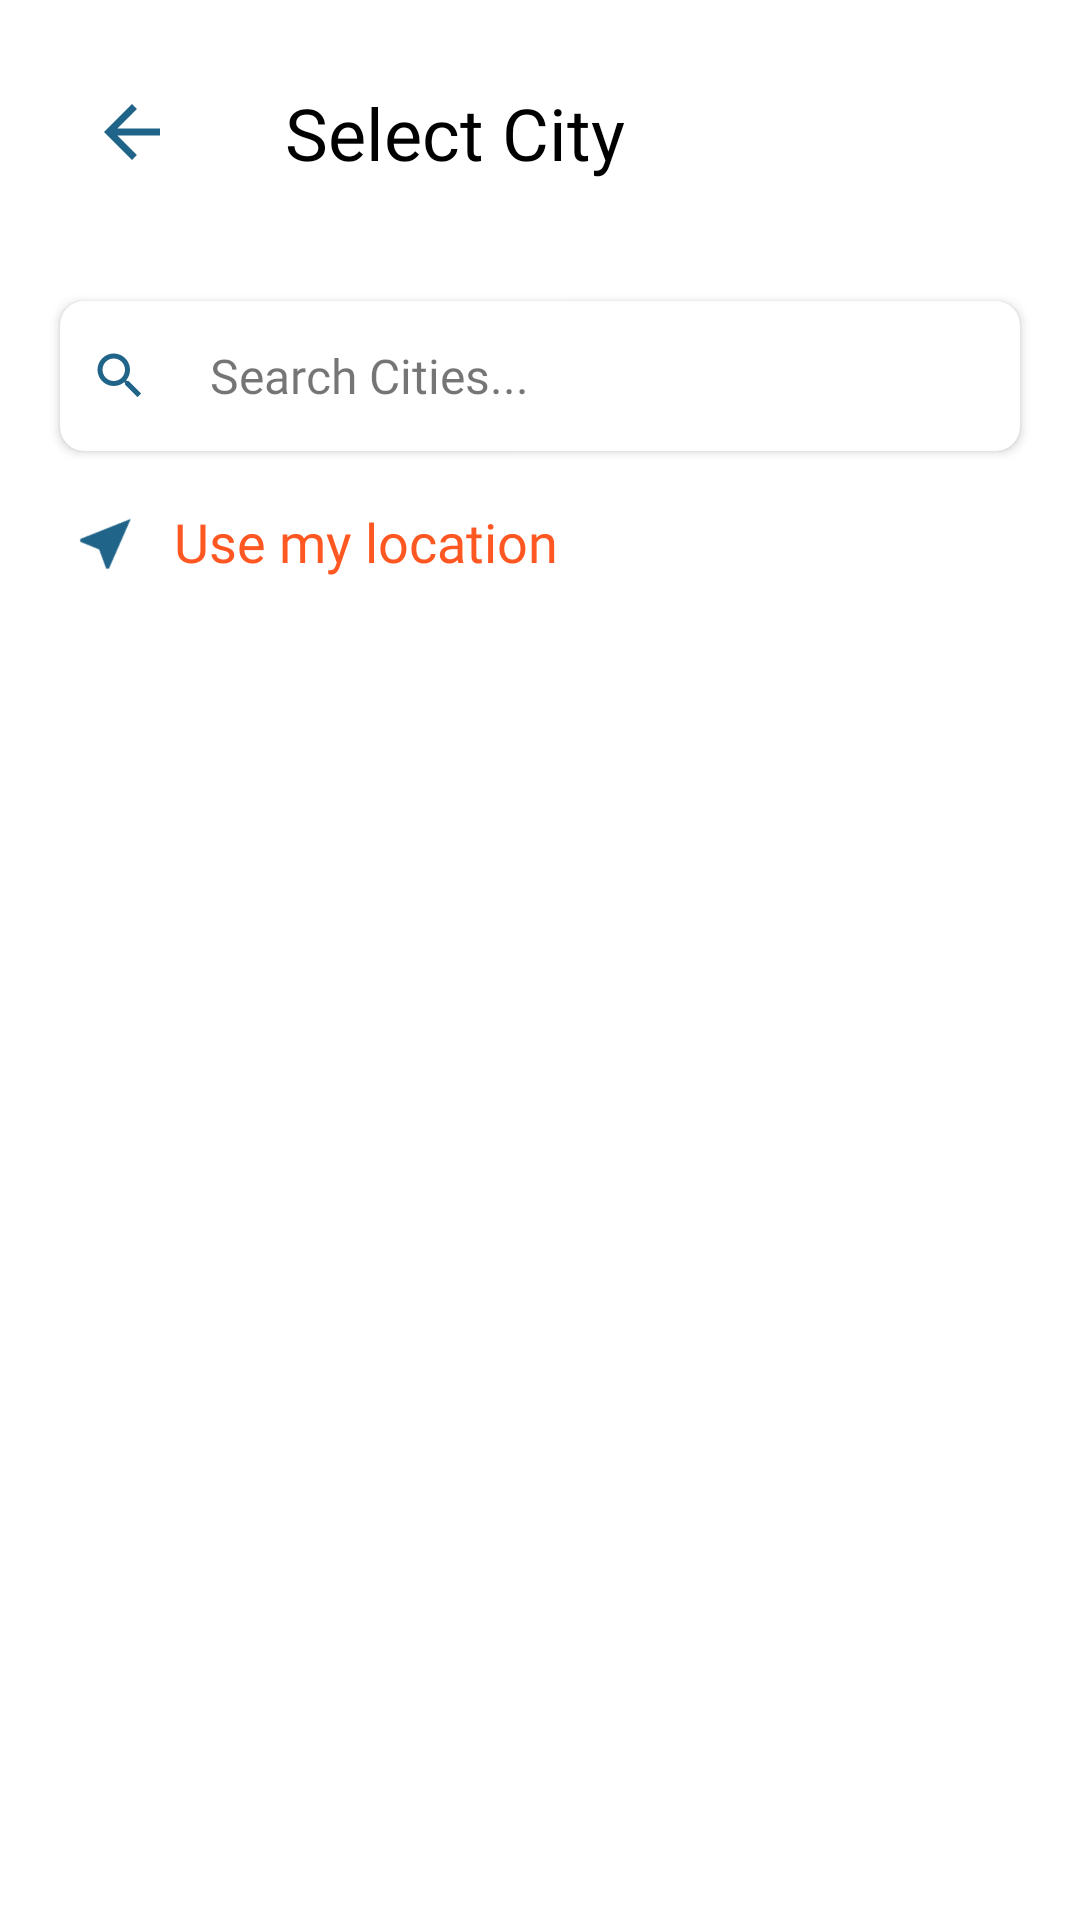

Screen size 1080 x 1920. Icon name, then its box in pixels as (x1, y1, x2, y2):
arrow back: (104, 104, 160, 160)
